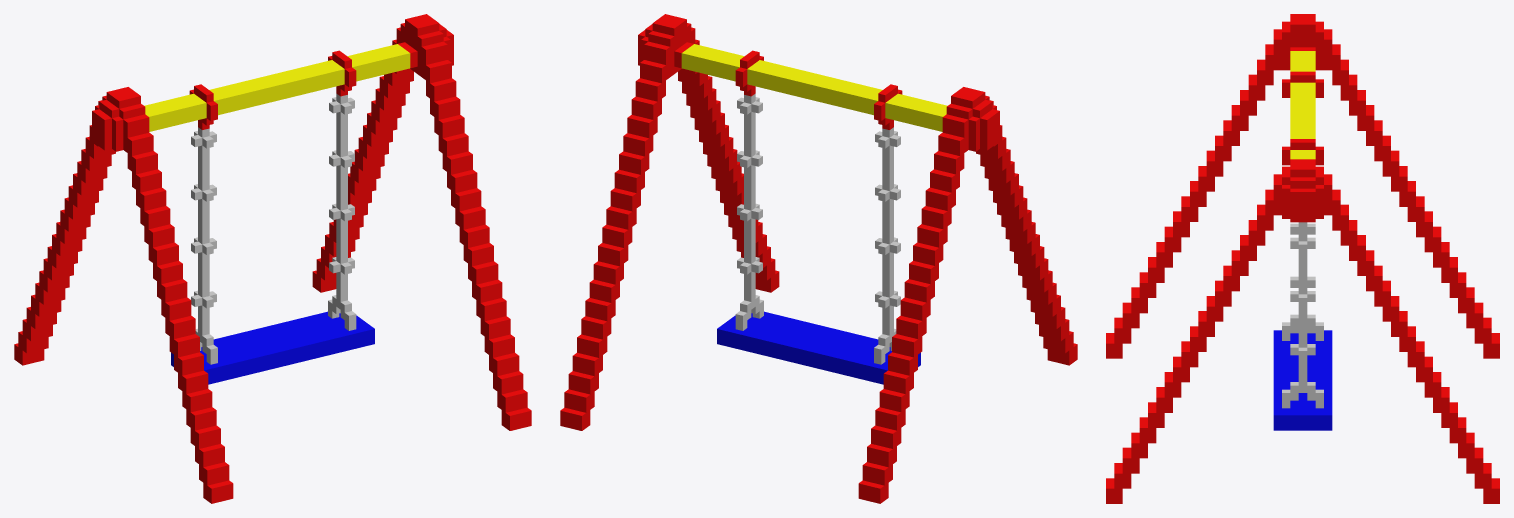
Rendered from swing.fbx.
The picture shows the model from 3 angles, left to right: view 1: azimuth 30°, elevation 25°; view 2: azimuth 150°, elevation 25°; view 3: azimuth 270°, elevation 25°; orthographic projection.
Parts seen in each view (by area): view 1: Untitled; view 2: Untitled; view 3: Untitled.
Part boxes in pixels (box(x1,y1,x2,y2)): Untitled: box(14, 14, 531, 503); Untitled: box(560, 14, 1077, 503); Untitled: box(1106, 14, 1499, 503).
Bounding box in the file's own units: 2.18 × 2 × 2.13.
Materials: 1 (1 with a texture image).
